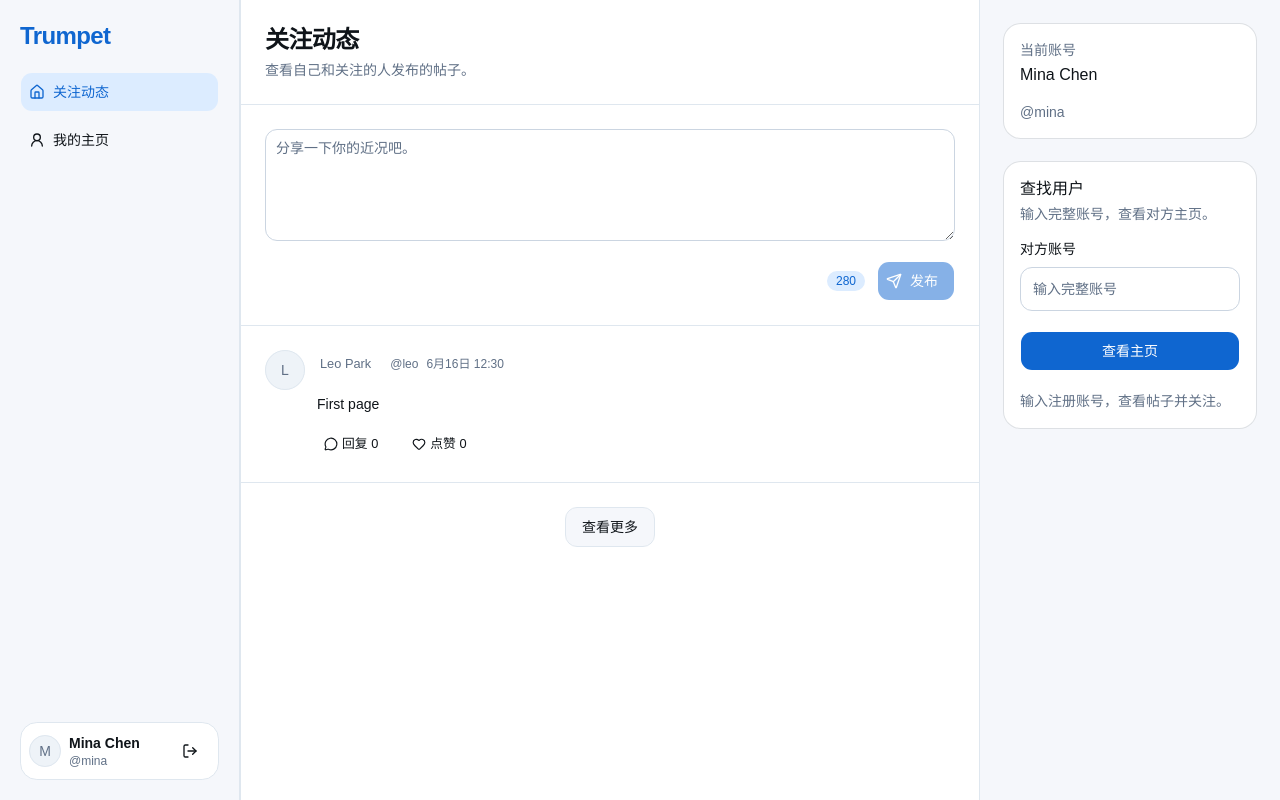
Test: App timeline interactions › loads another page when a timeline cursor is present
The width and height of the screenshot is (1280, 800).
Expected: the text "First page" is shown, [317, 396, 379, 412]
What coordinates should you click on to do the following:
click the button "查看更多"
I would click on:
 (610, 527)
Its box is [565, 507, 655, 547].
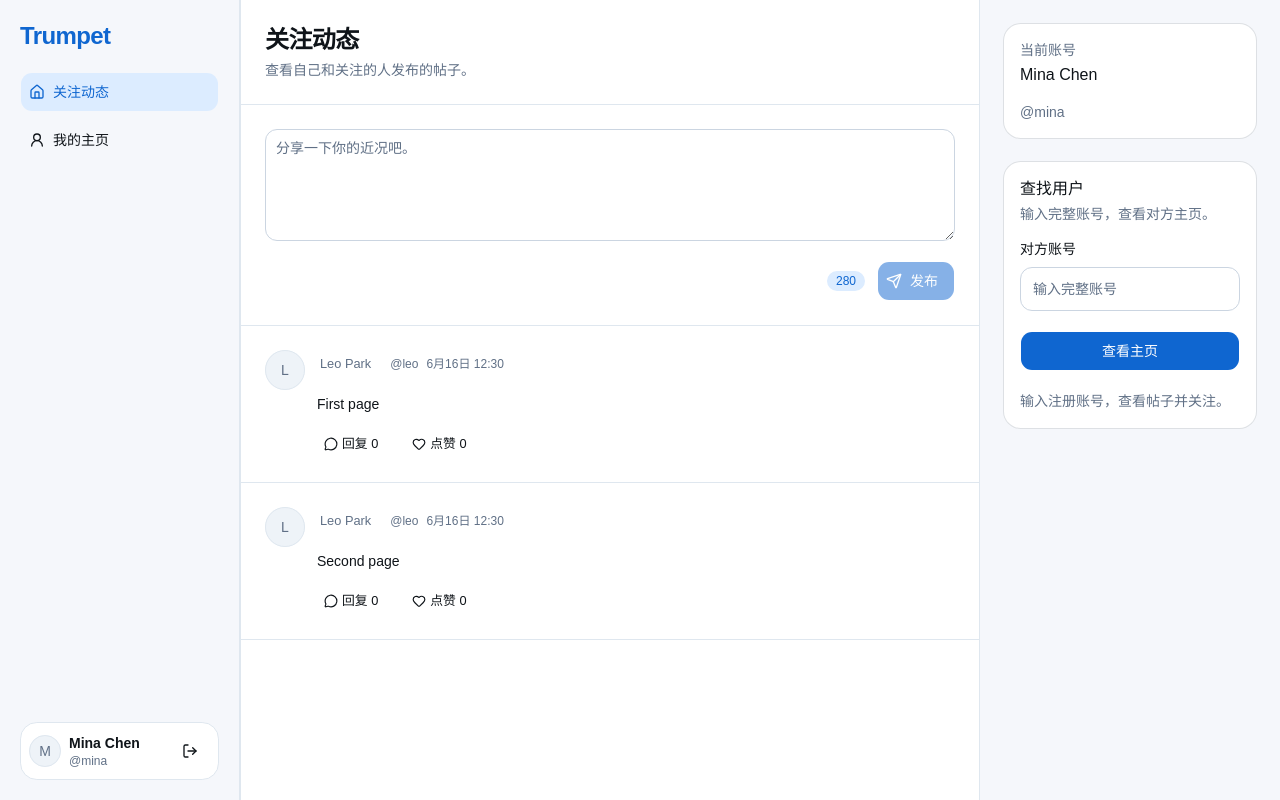
Expected: the text "Second page" is shown, [317, 553, 400, 569]
